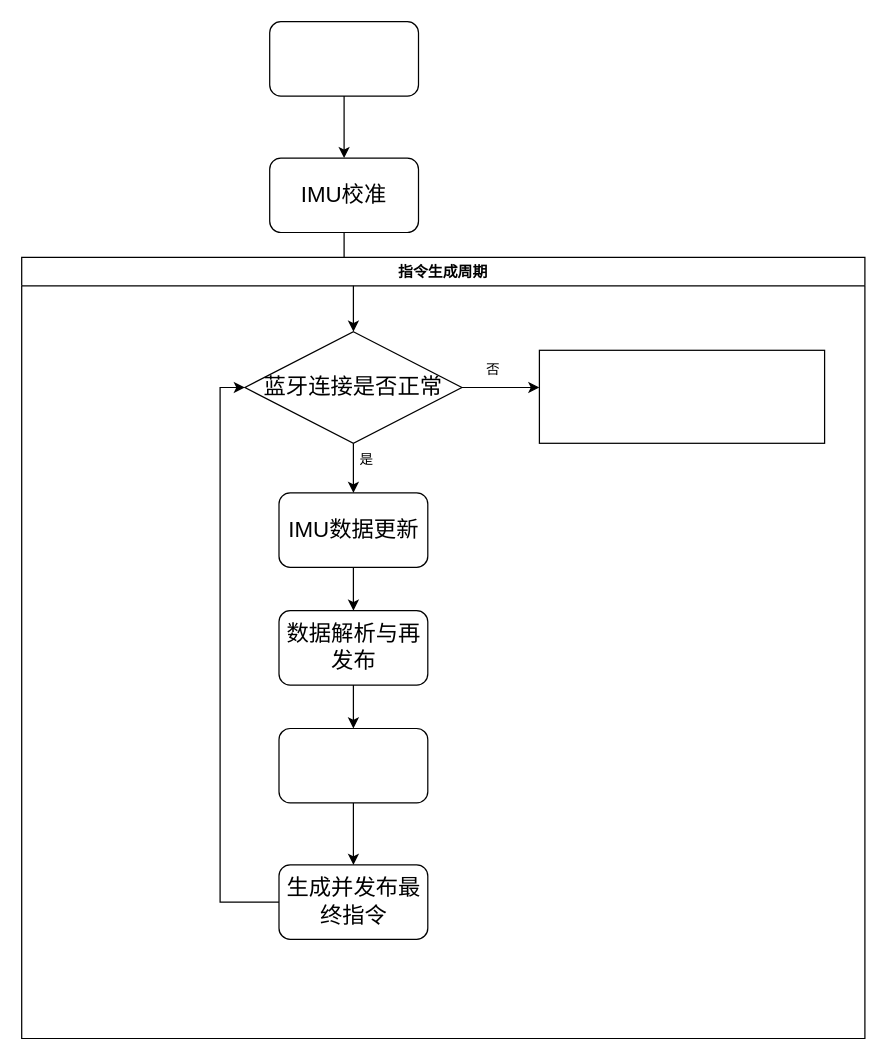
This 887x1060 diagram has some shape labels left out. Here are the shapes that lost their labels. From the top down, the centre of each, then its label:
(x=343, y=58): 系统启动
(x=681, y=396): 运动指令设置为停止，告知客户端发生错误
(x=353, y=765): 回调函数触发
